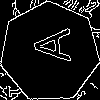A: (24, 27, 71, 63)
